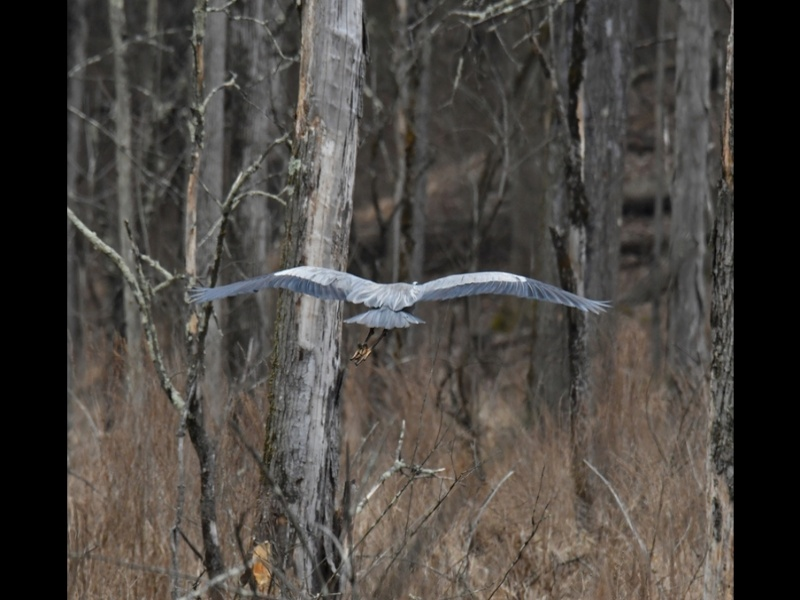heron: (192, 259, 613, 337)
